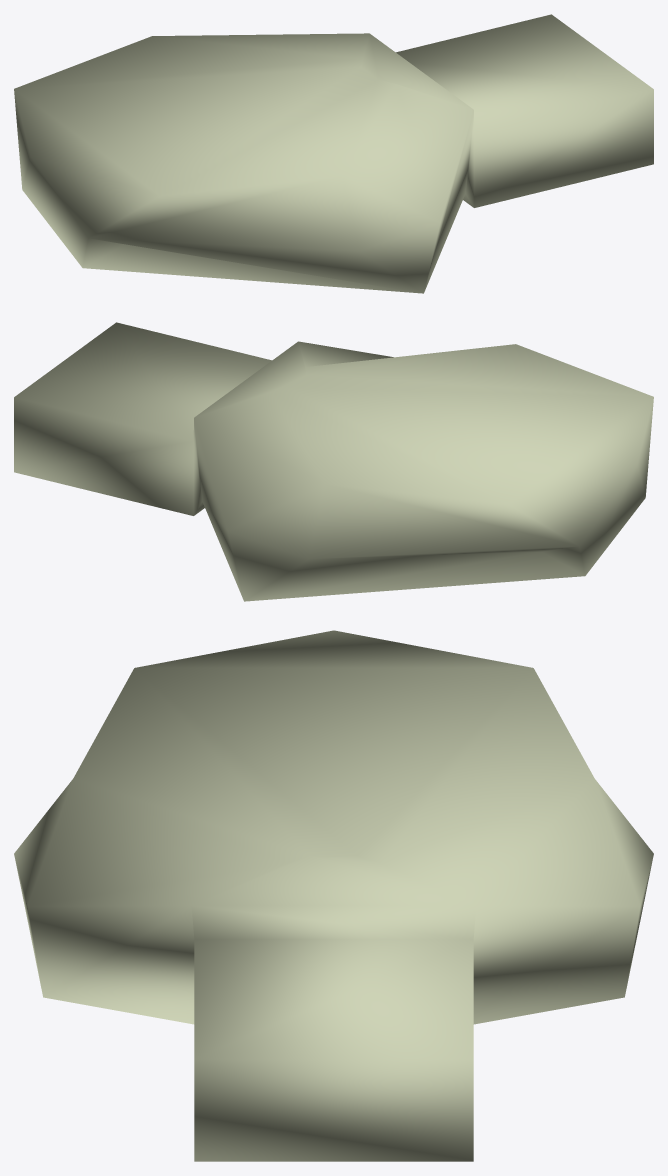
Rendered from Pentag_coll.obj.
3 renders of one model, top to bottom at view 1: azimuth 30°, elevation 25°; view 2: azimuth 150°, elevation 25°; view 3: azimuth 270°, elevation 25°, orthographic. The views are drawn at different scales.
Visible parts, largest first — view 1: cylinder3; view 2: cylinder3; view 3: cylinder3.
Part boxes in pixels (x1=…): cylinder3: x1=14, y1=14, x2=653, y2=293; cylinder3: x1=14, y1=322, x2=653, y2=601; cylinder3: x1=14, y1=630, x2=653, y2=1161.
Bounding box in the file's own units: 15.96 × 3.45 × 11.34.
